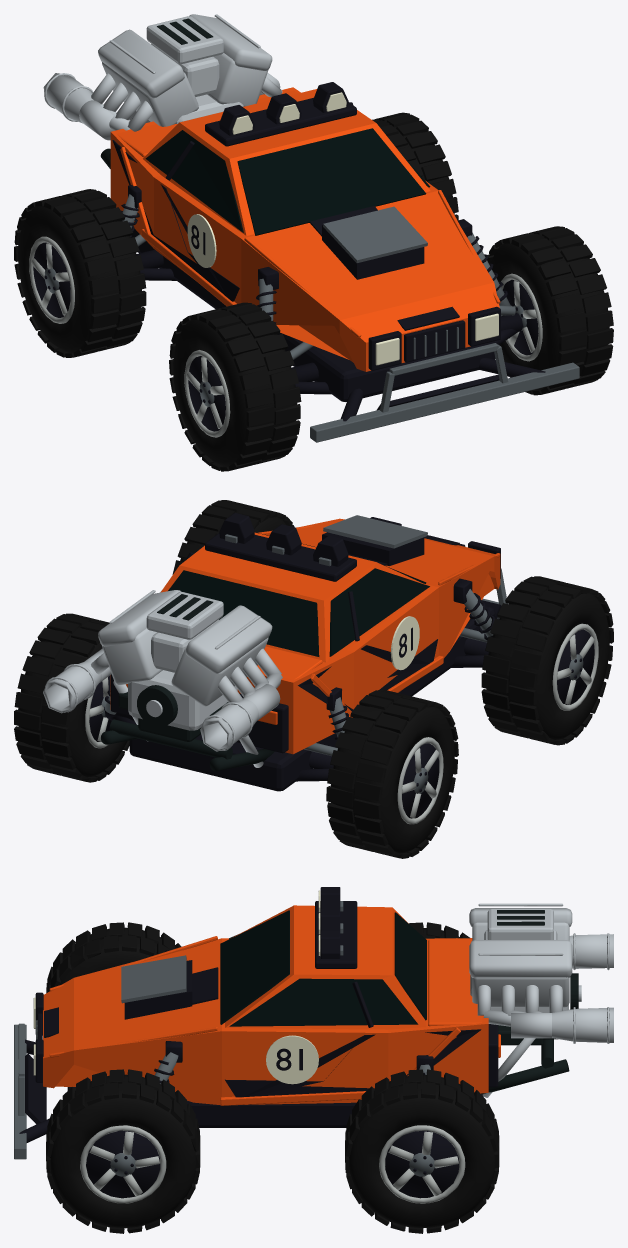
The model's file is rally.glb.
3 views of the same model, one above another, from view 1: azimuth 30°, elevation 25°; view 2: azimuth 150°, elevation 25°; view 3: azimuth 270°, elevation 25° (orthographic). The views are drawn at different scales.
Visible parts, largest first — view 1: body, wheel_rl, wheel_fl, wheel_fr, wheel_rr, headlight, rooflamp; view 2: body, wheel_rl, wheel_fl, wheel_rr, wheel_fr; view 3: body, wheel_rr, wheel_fr, wheel_fl, wheel_rl.
Boxes of the visible parts, left/top/right/bottom form: body: left=43, top=14, right=579, bottom=442; wheel_rl: left=14, top=189, right=146, bottom=357; wheel_fl: left=169, top=302, right=301, bottom=471; wheel_fr: left=487, top=226, right=613, bottom=395; wheel_rr: left=372, top=112, right=458, bottom=220; headlight: left=375, top=313, right=498, bottom=365; rooflamp: left=232, top=92, right=346, bottom=134; body: left=43, top=513, right=507, bottom=791; wheel_rl: left=326, top=689, right=458, bottom=858; wheel_fl: left=481, top=576, right=613, bottom=745; wheel_rr: left=14, top=613, right=129, bottom=782; wheel_fr: left=172, top=500, right=294, bottom=574; body: left=14, top=887, right=613, bottom=1159; wheel_rr: left=345, top=1069, right=499, bottom=1233; wheel_fr: left=46, top=1069, right=200, bottom=1233; wheel_fl: left=46, top=922, right=181, bottom=992; wheel_rl: left=409, top=922, right=469, bottom=938.
Size of the model in its own units: 3.53 by 2.21 by 5.11.
